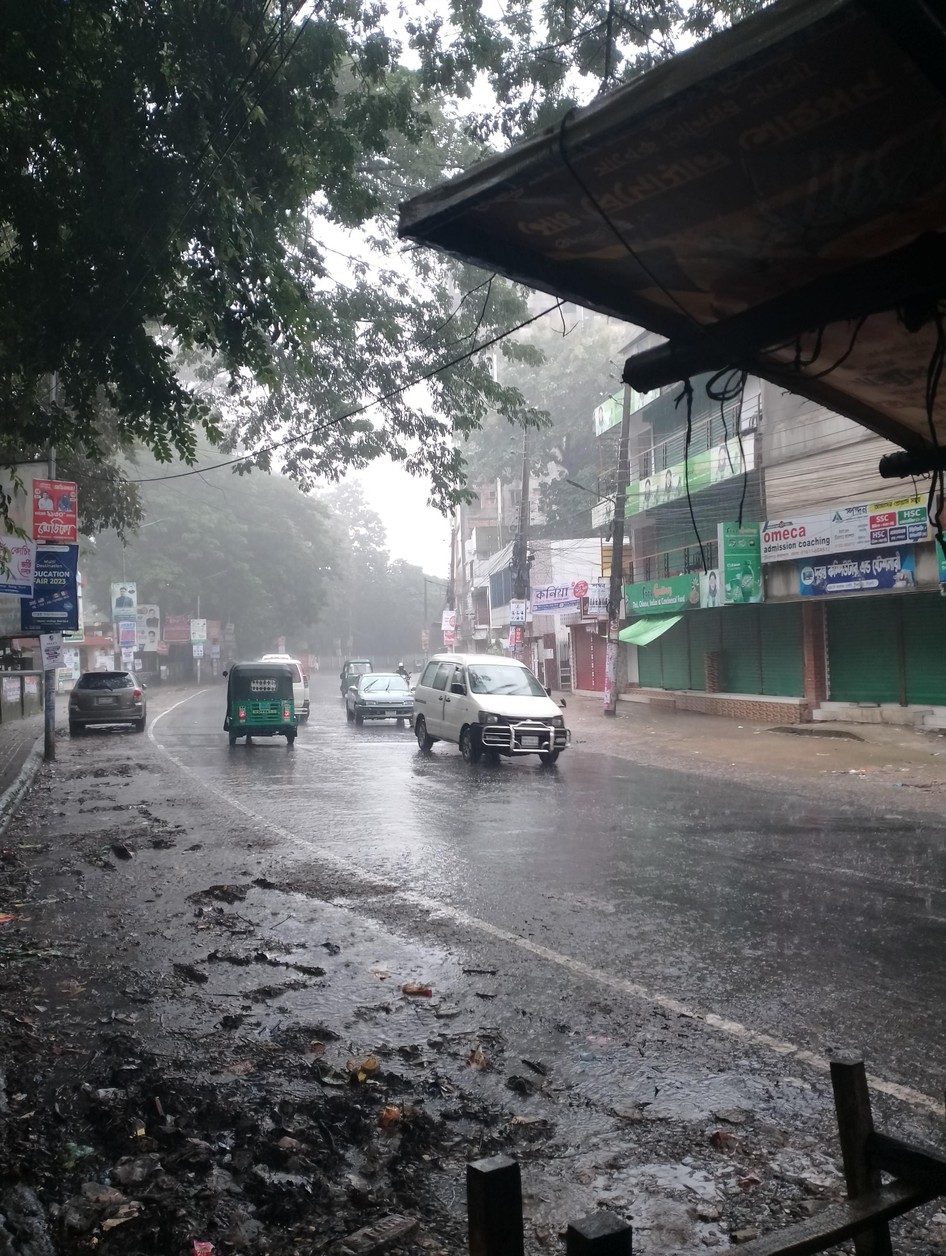Car: (406, 642, 592, 786), (61, 657, 161, 757), (340, 670, 421, 736)
